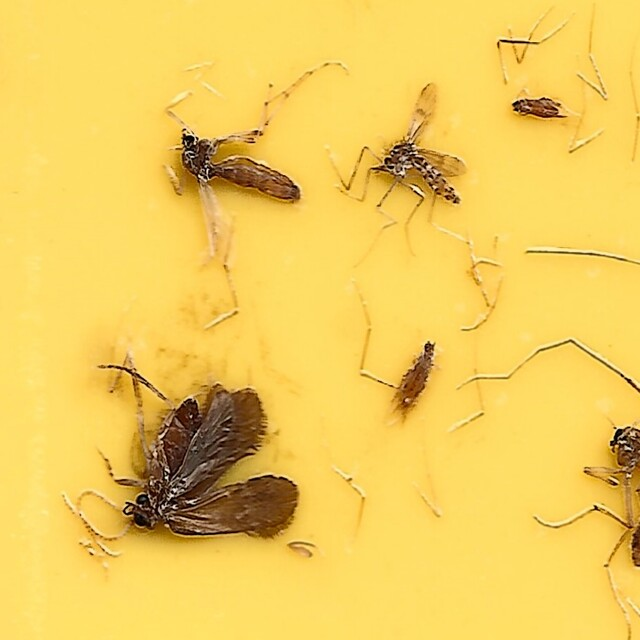Nematocera: (169, 127, 303, 262), (377, 85, 470, 210)
Trichoptera: (71, 357, 300, 555), (393, 336, 439, 418), (511, 93, 569, 120)
